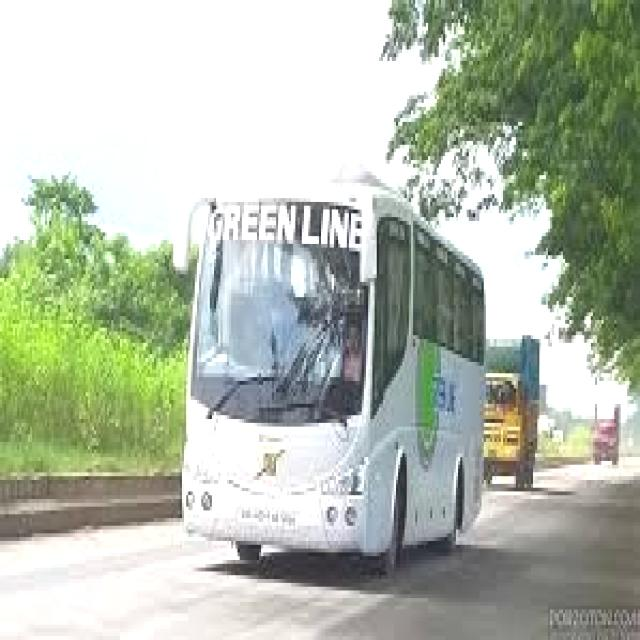bus: (169, 119, 493, 609)
